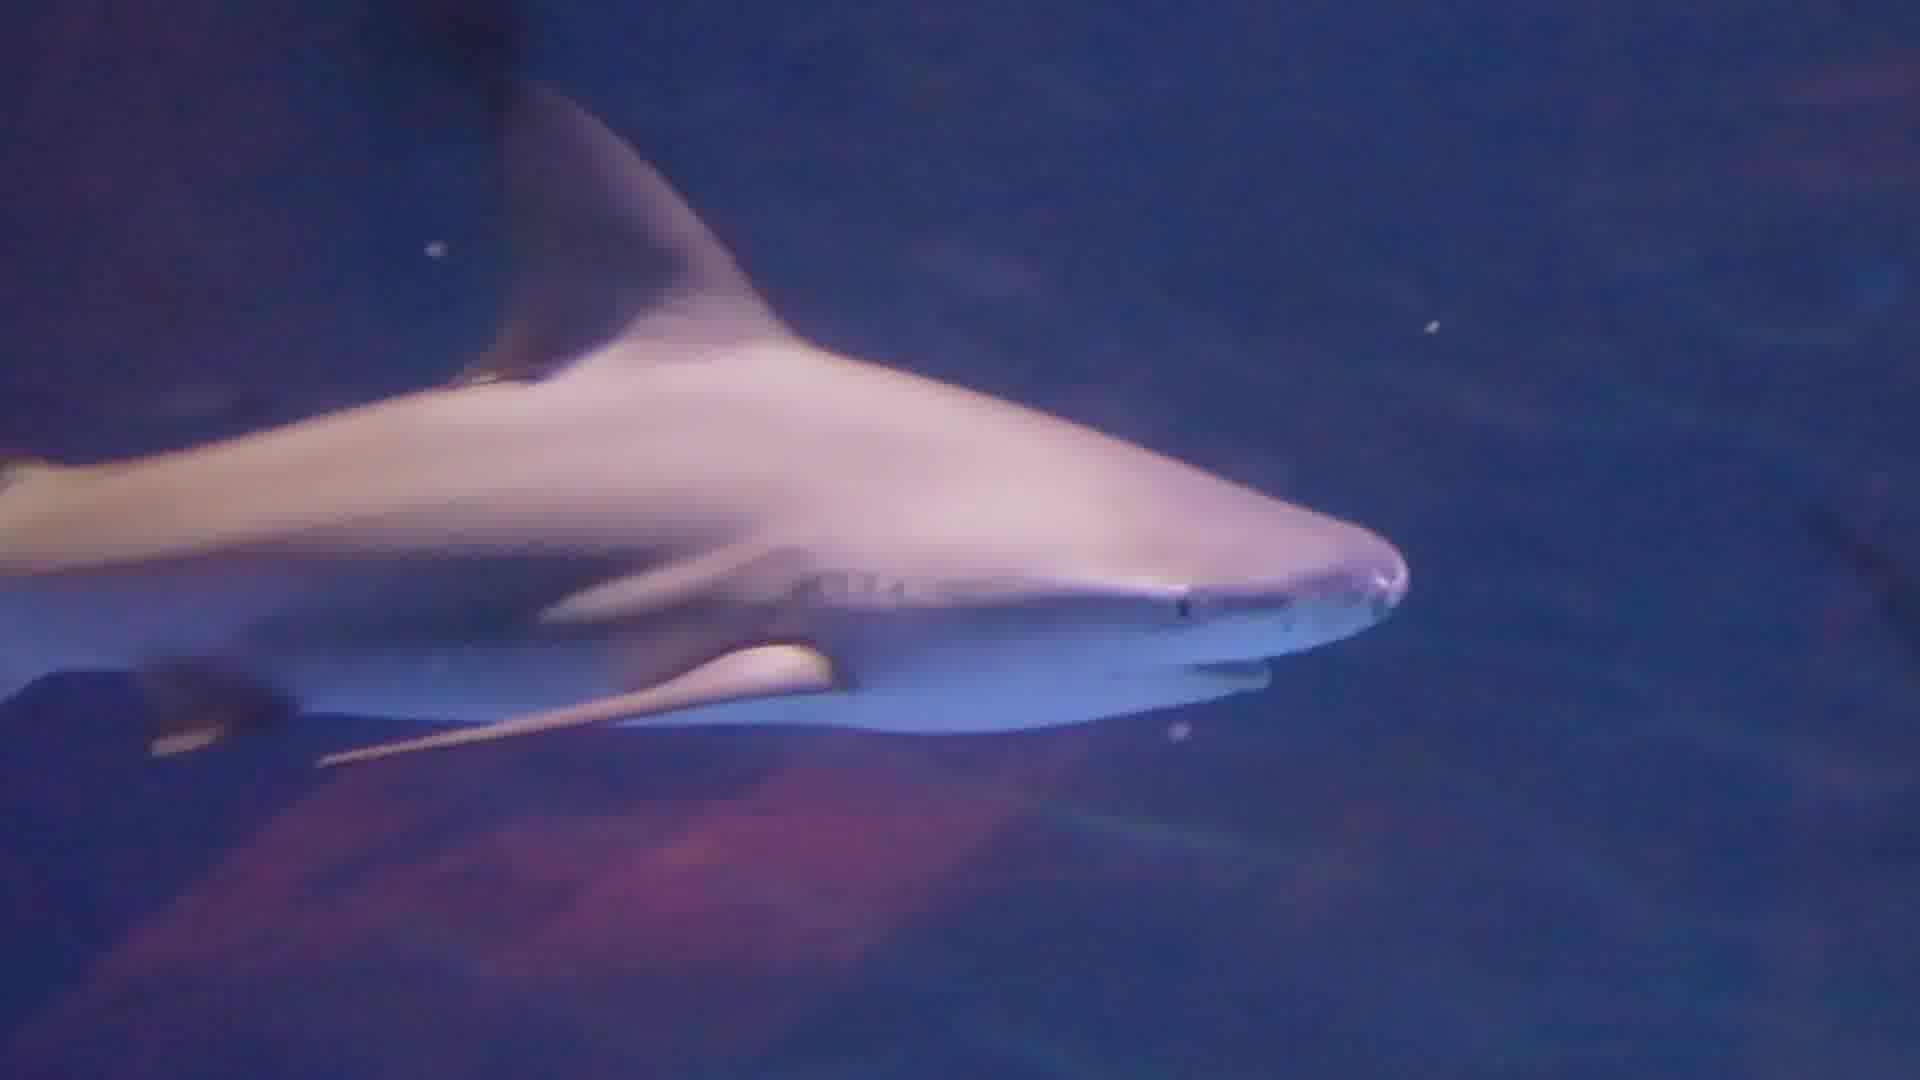Carcharhinus leucas: (1, 66, 1418, 800)
